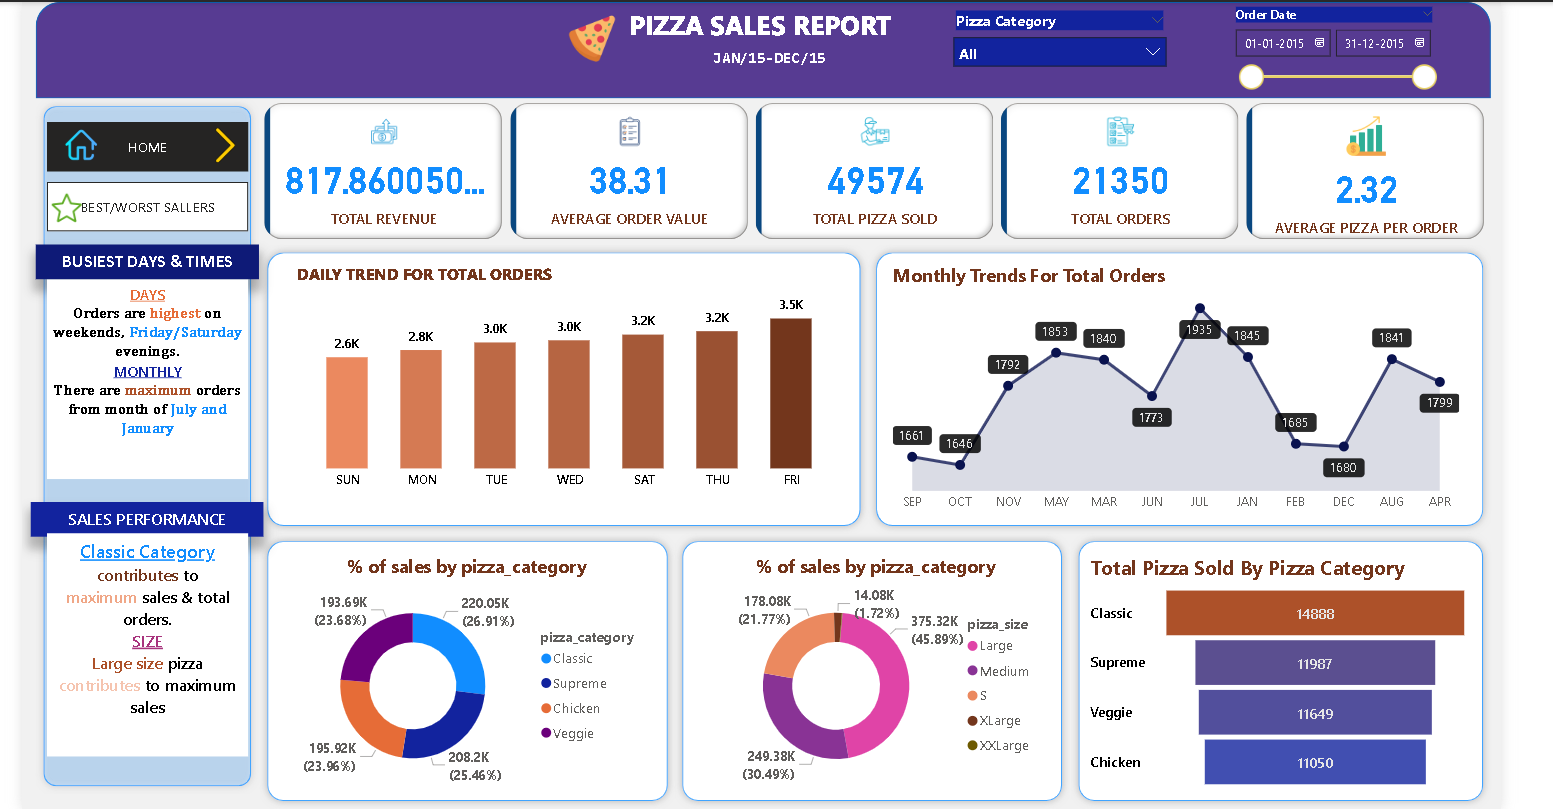

The page's visual inventory and layout, read from the dashboard file:
{"tool":"powerbi","page":{"name":"HOME","canvas":[1500,820],"ordinal":0},"visuals":[{"type":"shape","box":[14,97.8,226.4,705.7],"z":0},{"type":"cardVisual","fields":{"Data":["pizza_sales.TOTAL REVENUE","pizza_sales.AVERAGE ORDER VALUE","pizza_sales.TOTAL PIZZA SOLD","pizza_sales.TOTAL ORDERS","pizza_sales.AVERAGE PIZZA PER ORDER"]},"box":[240.4,97.8,1249.3,148.1],"z":1000},{"type":"shape","box":[14,0,1475.7,97.8],"z":2000},{"type":"textbox","box":[563.2,0,372.1,54.4],"z":3000},{"type":"textbox","box":[688.3,42.8,139.7,32.8],"z":4000},{"type":"image","box":[548.5,0,58.8,75],"z":5000},{"type":"shape","box":[240.4,245.9,617.7,293.5],"z":6000},{"type":"columnChart","title":"DAILY TREND FOR TOTAL ORDERS","fields":{"Category":["pizza_sales.ORDER DAY"],"Y":["pizza_sales.TOTAL ORDERS"]},"box":[273.9,264.1,564.6,239],"z":7000},{"type":"shape","box":[858,245.9,631.6,293.5],"z":8000},{"type":"textbox","box":[14,245.9,226.4,34.9],"z":9000},{"type":"areaChart","title":"Monthly Trends For Total Orders","fields":{"Category":["pizza_sales.Order Month"],"Y":["pizza_sales.TOTAL ORDERS"]},"box":[879,264.1,584.1,261.3],"z":10000},{"type":"shape","box":[240.4,539.4,422,279.5],"z":11000},{"type":"shape","box":[662.4,539.4,401.1,279.5],"z":12000},{"type":"shape","box":[1063.4,539.4,426.2,279.5],"z":13000},{"type":"donutChart","title":"% of sales by pizza_category","fields":{"Category":["pizza_sales.pizza_category"],"Y":["pizza_sales.TOTAL REVENUE"]},"box":[262.7,559,377.3,244.5],"z":14000},{"type":"donutChart","title":"% of sales by pizza_category","fields":{"Category":["pizza_sales.pizza_size"],"Y":["pizza_sales.TOTAL REVENUE"]},"box":[688.9,559,354.9,244.5],"z":15000},{"type":"funnel","title":"Total Pizza Sold By Pizza Category","fields":{"Y":["pizza_sales.TOTAL PIZZA SOLD"],"Category":["pizza_sales.pizza_category"]},"box":[1078.8,559,394.1,244.5],"z":16000},{"type":"textbox","box":[25.2,280.9,204,202.6],"z":17000},{"type":"textbox","box":[8.4,507.3,236.2,34.9],"z":18000},{"type":"textbox","box":[25.2,539.4,204,226.4],"z":19000},{"type":"slicer","fields":{"Values":["pizza_sales.pizza_category"]},"box":[934.9,4.2,236.2,71.3],"z":20000},{"type":"slicer","fields":{"Values":["pizza_sales.order_date"]},"box":[1218.5,0,225,97.8],"z":21000},{"type":"pageNavigator","box":[25.2,183.1,204,50.3],"z":22000},{"type":"pageNavigator","box":[25.2,121.6,204,50.3],"z":23000},{"type":"image","box":[39.1,121.6,41.9,46.1],"z":24000},{"type":"image","box":[25.2,185.9,40.5,44.7],"z":25000},{"type":"image","box":[184.5,123,44.7,44.7],"z":26000}]}

Visuals, with their boxes on the page's 1500x820 design canvas (x1, y1, x2, y2). These are canvas units, not pixel positions in the 1553x809 screenshot, which may show the page scaled, cropped or inside an application window:
shape: (14,98,240,804)
cardVisual - pizza_sales.TOTAL REVENUE x pizza_sales.AVERAGE ORDER VALUE: (240,98,1490,246)
shape: (14,0,1490,98)
textbox: (563,0,935,54)
textbox: (688,43,828,76)
image: (548,0,607,75)
shape: (240,246,858,539)
"DAILY TREND FOR TOTAL ORDERS" columnChart: (274,264,838,503)
shape: (858,246,1490,539)
textbox: (14,246,240,281)
"Monthly Trends For Total Orders" areaChart: (879,264,1463,525)
shape: (240,539,662,819)
shape: (662,539,1064,819)
shape: (1063,539,1490,819)
"% of sales by pizza_category" donutChart: (263,559,640,804)
"% of sales by pizza_category" donutChart: (689,559,1044,804)
"Total Pizza Sold By Pizza Category" funnel: (1079,559,1473,804)
textbox: (25,281,229,484)
textbox: (8,507,245,542)
textbox: (25,539,229,766)
slicer - pizza_sales.pizza_category: (935,4,1171,76)
slicer - pizza_sales.order_date: (1218,0,1444,98)
pageNavigator: (25,183,229,233)
pageNavigator: (25,122,229,172)
image: (39,122,81,168)
image: (25,186,66,231)
image: (184,123,229,168)
